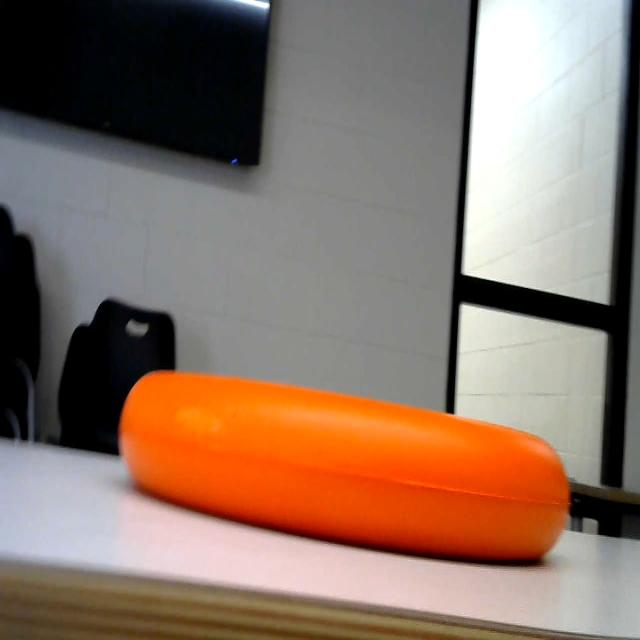note: (115, 351, 587, 569)
